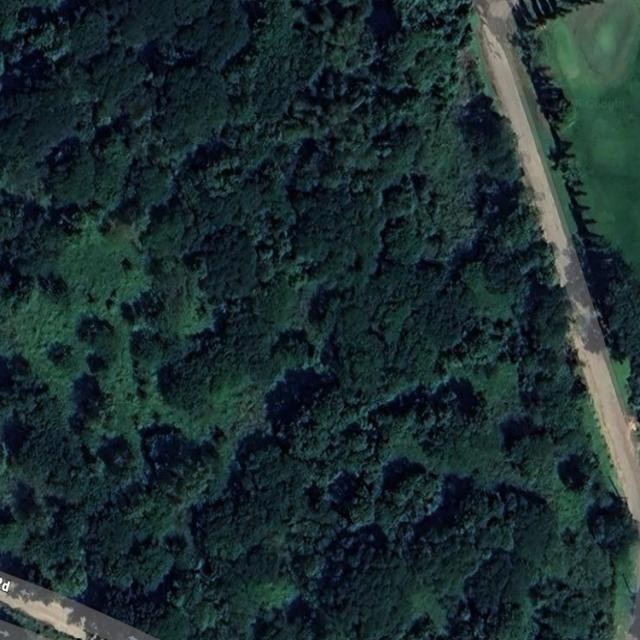Tree: (0, 82, 79, 167), (156, 64, 230, 153), (329, 553, 404, 640), (166, 337, 244, 410), (336, 302, 389, 406), (294, 178, 386, 236), (178, 0, 252, 70), (403, 280, 473, 349), (286, 398, 358, 464), (205, 226, 261, 308), (260, 29, 328, 96), (472, 115, 526, 195), (238, 164, 298, 230), (203, 512, 275, 566), (432, 392, 490, 459), (89, 46, 149, 110), (54, 150, 117, 210), (24, 402, 71, 480), (601, 268, 640, 359), (246, 448, 315, 497), (326, 17, 378, 78), (259, 330, 311, 390), (239, 480, 308, 525), (178, 442, 224, 508), (249, 1, 300, 58), (194, 187, 244, 245), (94, 132, 136, 198), (468, 554, 512, 617), (23, 533, 84, 577), (356, 264, 414, 310), (314, 239, 364, 292), (532, 288, 572, 354), (85, 517, 136, 568), (380, 215, 430, 266), (492, 207, 544, 256), (121, 0, 175, 47), (440, 339, 504, 378), (375, 126, 424, 176), (326, 140, 382, 183), (236, 121, 284, 171), (227, 306, 265, 369), (148, 213, 191, 266), (412, 46, 456, 96), (396, 472, 443, 518), (389, 27, 439, 70), (458, 492, 506, 536), (284, 223, 333, 266), (129, 544, 171, 594), (136, 166, 179, 214), (592, 504, 634, 552), (257, 275, 297, 325), (292, 516, 336, 561), (201, 155, 244, 199), (510, 431, 554, 474), (346, 484, 382, 536), (70, 12, 110, 58), (381, 522, 422, 564), (489, 603, 535, 640), (481, 254, 523, 294), (517, 238, 557, 279), (75, 315, 118, 352), (132, 328, 172, 367), (411, 261, 448, 303), (24, 23, 62, 61), (5, 387, 46, 422), (50, 564, 88, 601), (361, 100, 394, 142), (0, 190, 25, 245), (56, 506, 93, 543), (421, 516, 463, 547), (191, 497, 237, 525), (477, 522, 516, 555), (376, 413, 416, 445), (170, 0, 212, 30), (386, 180, 420, 217), (411, 400, 436, 448), (360, 451, 388, 493), (264, 617, 314, 640), (124, 494, 162, 524), (262, 89, 294, 124), (385, 365, 415, 400), (188, 602, 224, 631), (0, 520, 25, 560), (156, 467, 184, 499), (516, 489, 544, 520), (106, 564, 132, 596), (411, 619, 447, 640), (569, 470, 595, 497), (346, 427, 368, 456), (629, 359, 640, 412), (502, 485, 519, 518), (453, 623, 483, 640), (349, 548, 371, 570), (319, 584, 337, 604), (331, 543, 349, 562), (339, 530, 358, 546)
